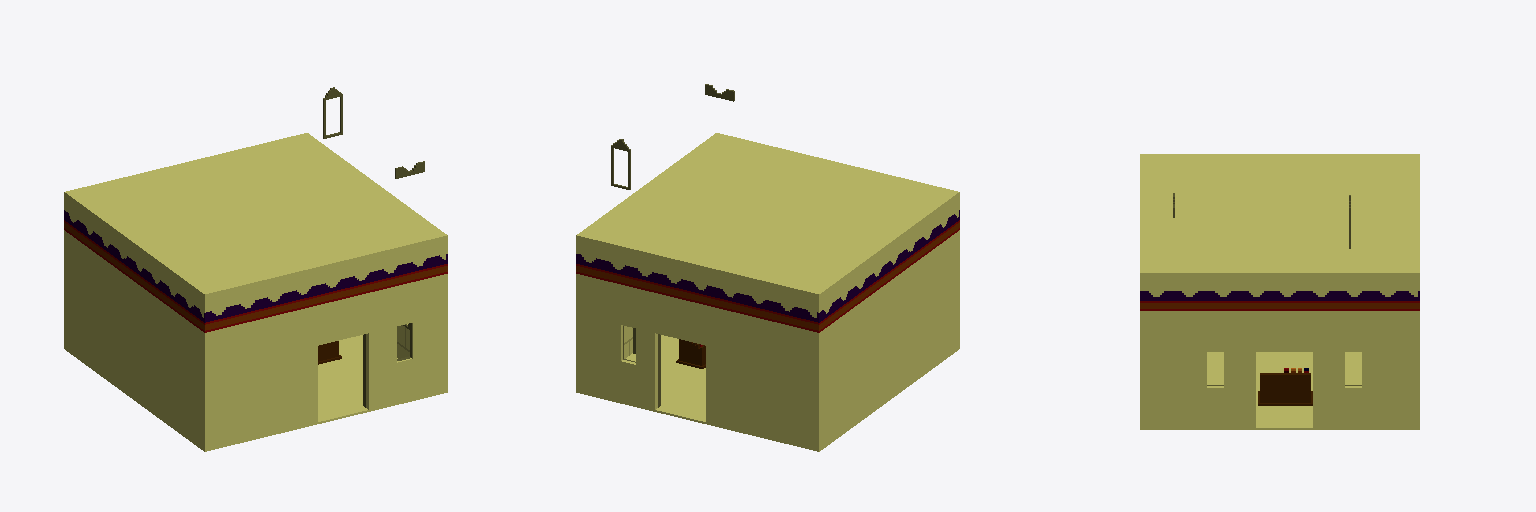
3 views of the same model, side by side, from view 1: azimuth 30°, elevation 25°; view 2: azimuth 150°, elevation 25°; view 3: azimuth 270°, elevation 25° (orthographic).
Bounding box in the file's own units: 126 × 114 × 126.
1 materials, 1 textured.